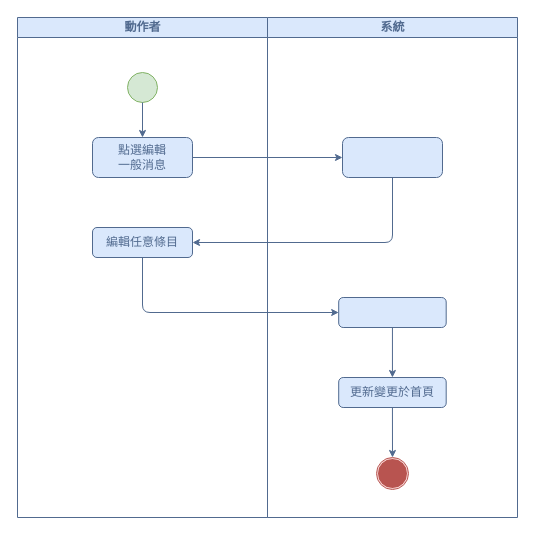
Some shapes in this 535 by 535 pixel diagram are drawn without their labels. Here are the shapes that lost their labels. From the top down, the box of each, then its label:
(342, 136, 442, 178): 顯示所有條目 和編輯按鈕
(338, 296, 446, 328): 儲存變更至資料庫
